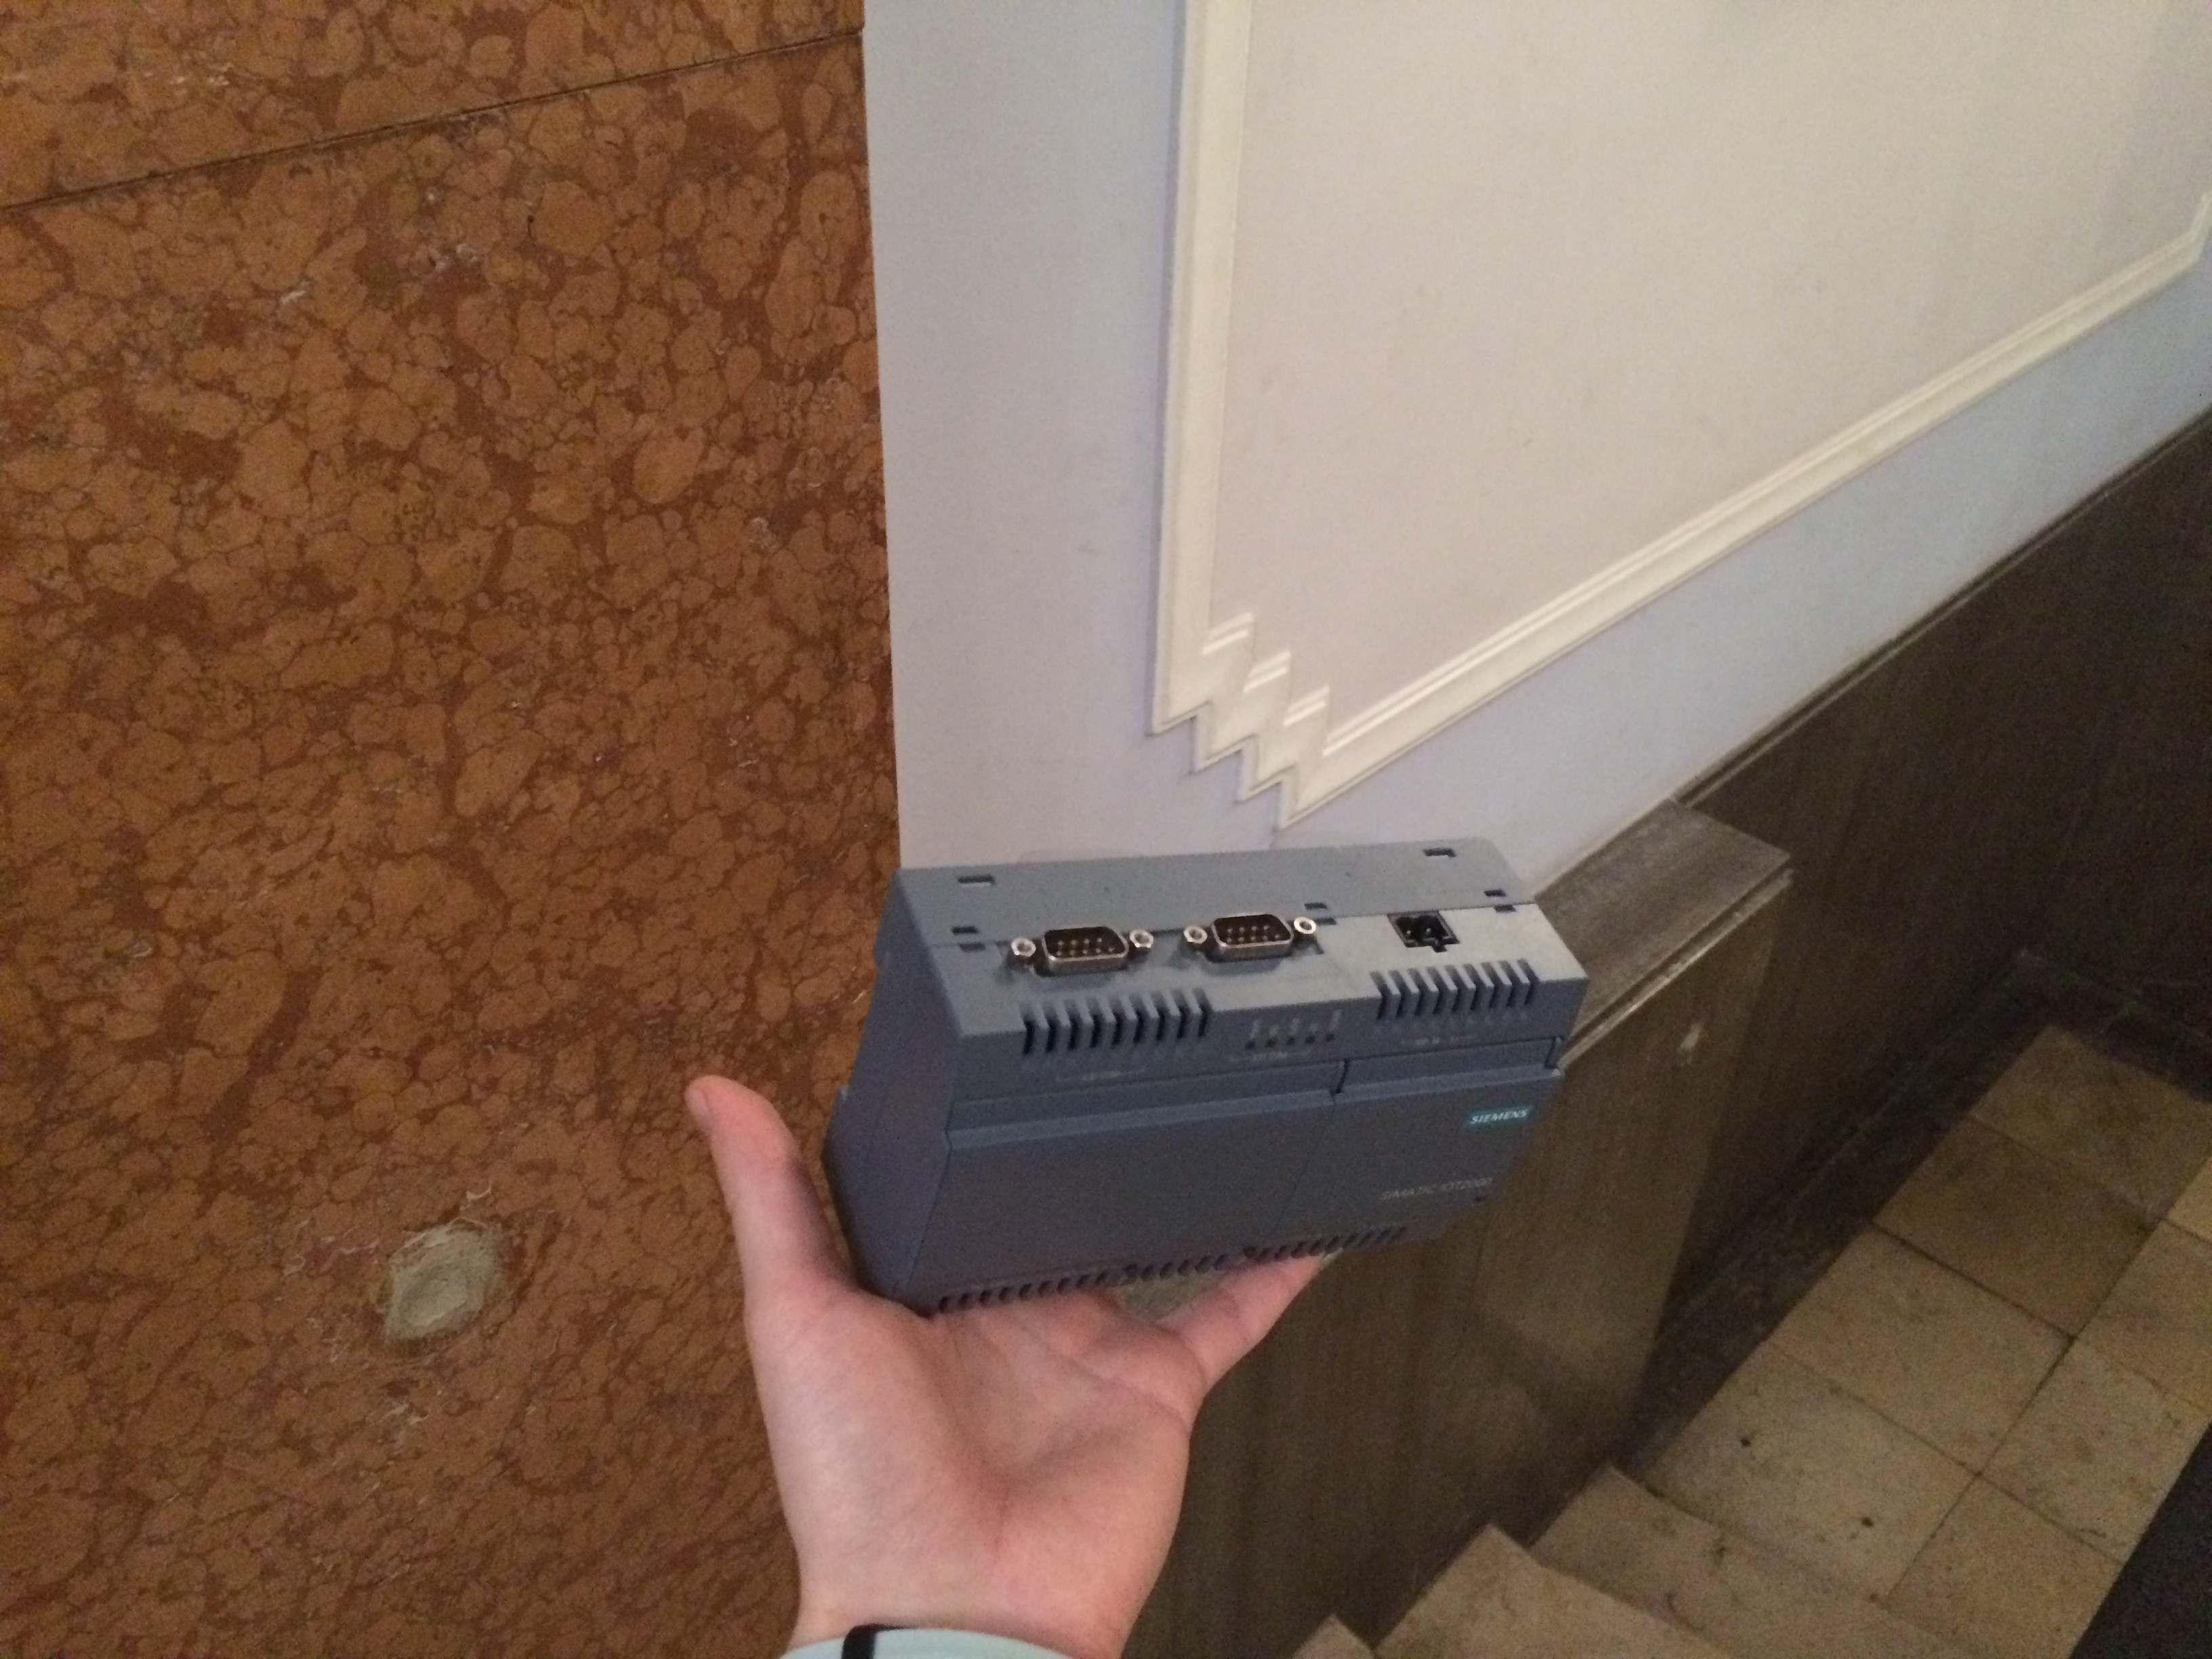iot2000: (815, 831, 1592, 1324)
